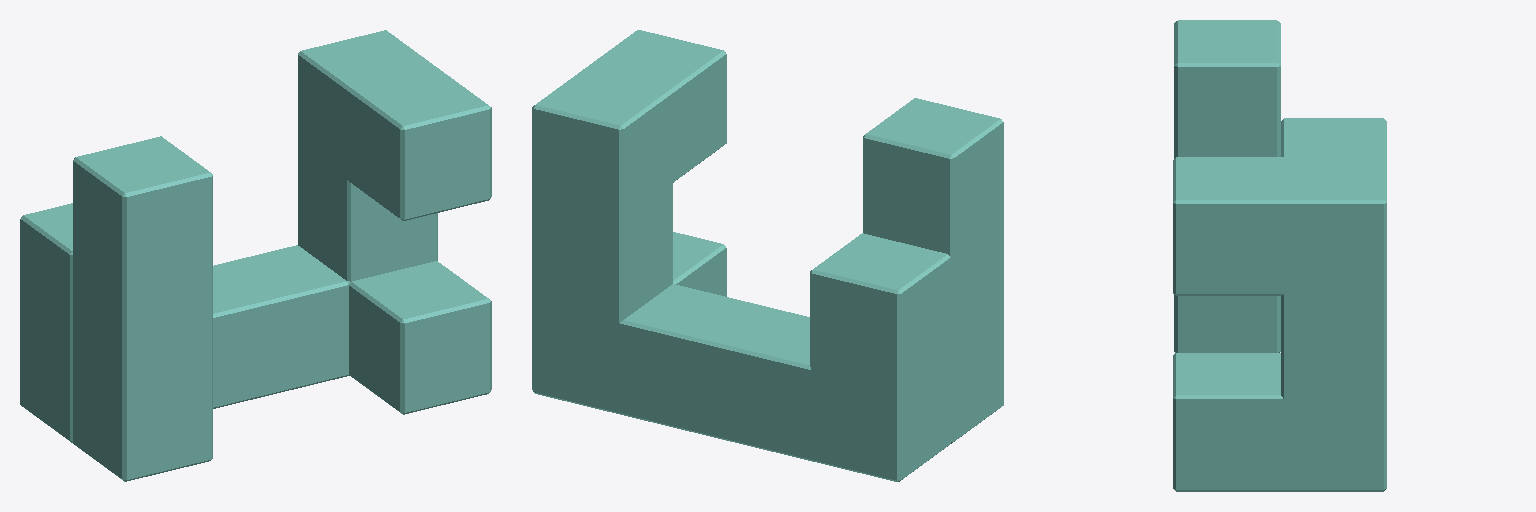
--- What the picture shows (computed from the rendered views, not written in the file) ---
3 views of the same robot in one strip: view 1: azimuth 30°, elevation 25°; view 2: azimuth 150°, elevation 25°; view 3: azimuth 270°, elevation 25° (orthographic).
Model obj_2 with 1 links and 0 joints (none), rooted at link_piece_2, posed all joints at 0.
Visible links, largest first — view 1: link_piece_2; view 2: link_piece_2; view 3: link_piece_2.
Link boxes in pixels (left/top/right/bottom): link_piece_2: left=20, top=30, right=491, bottom=481; link_piece_2: left=532, top=30, right=1003, bottom=481; link_piece_2: left=1173, top=20, right=1386, bottom=491.
Bounding box of the posed robot: 0.6401 × 0.3187 × 0.4793 m (x, y, z).
1 mesh visuals loaded from 1 distinct referenced files (1 OBJ).

URDF robot description (obj_2):
<robot name="obj_2" version="1.0">
  <link name="link_piece_2">
    <collision name="piece_2-collision.001">
      <origin rpy="-1.57080 0.00000 -3.14159" xyz="-0.70898 0.34385 0.40237"/>
      <geometry>
        <mesh filename="../meshes/obj/piece_2-collision.001.obj" scale="2.67513 2.67513 2.67513"/>
      </geometry>
    </collision>
    <collision name="piece_2-collision.002">
      <origin rpy="3.14159 1.57080 0.00000" xyz="-0.78803 0.42290 0.40237"/>
      <geometry>
        <mesh filename="../meshes/obj/piece_2-collision.002.obj" scale="2.67513 2.67513 2.67513"/>
      </geometry>
    </collision>
    <collision name="piece_2-collision.003">
      <origin rpy="3.14159 1.57080 0.00000" xyz="-0.78779 0.58124 0.32212"/>
      <geometry>
        <mesh filename="../meshes/obj/piece_2-collision.003.obj" scale="2.67513 2.67513 2.67513"/>
      </geometry>
    </collision>
    <collision name="piece_2-collision.004">
      <origin rpy="0.00000 -0.00000 -1.57080" xyz="-0.70898 0.42290 0.64193"/>
      <geometry>
        <mesh filename="../meshes/obj/piece_2-collision.004.obj" scale="2.67513 2.67513 2.67513"/>
      </geometry>
    </collision>
    <collision name="piece_2-collision.005">
      <origin rpy="0.00000 -0.00000 -1.57080" xyz="-0.70874 0.58124 0.48142"/>
      <geometry>
        <mesh filename="../meshes/obj/piece_2-collision.005.obj" scale="2.67513 2.67513 2.67513"/>
      </geometry>
    </collision>
    <collision name="piece_2-collision.006">
      <origin rpy="-3.14159 -1.57080 0.00000" xyz="-0.62993 0.42290 0.40237"/>
      <geometry>
        <mesh filename="../meshes/obj/piece_2-collision.006.obj" scale="2.67513 2.67513 2.67513"/>
      </geometry>
    </collision>
    <collision name="piece_2-collision.007">
      <origin rpy="3.14159 -0.00000 -1.57080" xyz="-0.70898 0.42290 0.16281"/>
      <geometry>
        <mesh filename="../meshes/obj/piece_2-collision.007.obj" scale="2.67513 2.67513 2.67513"/>
      </geometry>
    </collision>
    <collision name="piece_2-collision.008">
      <origin rpy="-1.57080 0.00000 0.00000" xyz="-0.70874 0.66029 0.32212"/>
      <geometry>
        <mesh filename="../meshes/obj/piece_2-collision.008.obj" scale="2.67513 2.67513 2.67513"/>
      </geometry>
    </collision>
    <collision name="piece_2-collision.009">
      <origin rpy="-3.14159 -1.57080 0.00000" xyz="-0.62969 0.58124 0.39880"/>
      <geometry>
        <mesh filename="../meshes/obj/piece_2-collision.009.obj" scale="2.67513 2.67513 2.67513"/>
      </geometry>
    </collision>
    <collision name="piece_2-collision.010">
      <origin rpy="0.00000 -0.00000 -1.57080" xyz="-0.46798 0.58124 0.32091"/>
      <geometry>
        <mesh filename="../meshes/obj/piece_2-collision.010.obj" scale="2.67513 2.67513 2.67513"/>
      </geometry>
    </collision>
    <collision name="piece_2-collision.011">
      <origin rpy="-1.57080 0.00000 -3.14159" xyz="-0.47035 0.50219 0.24186"/>
      <geometry>
        <mesh filename="../meshes/obj/piece_2-collision.011.obj" scale="2.67513 2.67513 2.67513"/>
      </geometry>
    </collision>
    <collision name="piece_2-collision.012">
      <origin rpy="-1.57080 0.00000 -3.14159" xyz="-0.22722 0.34168 0.24186"/>
      <geometry>
        <mesh filename="../meshes/obj/piece_2-collision.012.obj" scale="2.67513 2.67513 2.67513"/>
      </geometry>
    </collision>
    <collision name="piece_2-collision.013">
      <origin rpy="3.14159 -0.00000 -1.57080" xyz="-0.22722 0.50098 0.16281"/>
      <geometry>
        <mesh filename="../meshes/obj/piece_2-collision.013.obj" scale="2.67513 2.67513 2.67513"/>
      </geometry>
    </collision>
    <collision name="piece_2-collision.014">
      <origin rpy="3.14159 -0.00000 -1.57080" xyz="-0.54230 0.58124 0.16281"/>
      <geometry>
        <mesh filename="../meshes/obj/piece_2-collision.014.obj" scale="2.67513 2.67513 2.67513"/>
      </geometry>
    </collision>
    <collision name="piece_2-collision.015">
      <origin rpy="-3.14159 -1.57080 0.00000" xyz="-0.14817 0.50098 0.24186"/>
      <geometry>
        <mesh filename="../meshes/obj/piece_2-collision.015.obj" scale="2.67513 2.67513 2.67513"/>
      </geometry>
    </collision>
    <collision name="piece_2-collision.016">
      <origin rpy="-3.14159 -1.57080 0.00000" xyz="-0.14817 0.58124 0.47669"/>
      <geometry>
        <mesh filename="../meshes/obj/piece_2-collision.016.obj" scale="2.67513 2.67513 2.67513"/>
      </geometry>
    </collision>
    <collision name="piece_2-collision.017">
      <origin rpy="-3.14159 -1.57080 0.00000" xyz="-0.14817 0.42666 0.56288"/>
      <geometry>
        <mesh filename="../meshes/obj/piece_2-collision.017.obj" scale="2.67513 2.67513 2.67513"/>
      </geometry>
    </collision>
    <collision name="piece_2-collision.018">
      <origin rpy="-1.57080 0.00000 0.00000" xyz="-0.39366 0.66029 0.24186"/>
      <geometry>
        <mesh filename="../meshes/obj/piece_2-collision.018.obj" scale="2.67513 2.67513 2.67513"/>
      </geometry>
    </collision>
    <collision name="piece_2-collision.019">
      <origin rpy="-1.57080 0.00000 0.00000" xyz="-0.22699 0.66029 0.47669"/>
      <geometry>
        <mesh filename="../meshes/obj/piece_2-collision.019.obj" scale="2.67513 2.67513 2.67513"/>
      </geometry>
    </collision>
    <collision name="piece_2-collision.020">
      <origin rpy="-1.57080 0.00000 -3.14159" xyz="-0.22722 0.50219 0.40237"/>
      <geometry>
        <mesh filename="../meshes/obj/piece_2-collision.020.obj" scale="2.67513 2.67513 2.67513"/>
      </geometry>
    </collision>
    <collision name="piece_2-collision.021">
      <origin rpy="3.14159 -0.00000 -1.57080" xyz="-0.22722 0.42430 0.48383"/>
      <geometry>
        <mesh filename="../meshes/obj/piece_2-collision.021.obj" scale="2.67513 2.67513 2.67513"/>
      </geometry>
    </collision>
    <collision name="piece_2-collision.022">
      <origin rpy="-1.57080 0.00000 -3.14159" xyz="-0.22722 0.34168 0.56288"/>
      <geometry>
        <mesh filename="../meshes/obj/piece_2-collision.022.obj" scale="2.67513 2.67513 2.67513"/>
      </geometry>
    </collision>
    <collision name="piece_2-collision.023">
      <origin rpy="3.14159 1.57080 0.00000" xyz="-0.30627 0.58124 0.47906"/>
      <geometry>
        <mesh filename="../meshes/obj/piece_2-collision.023.obj" scale="2.67513 2.67513 2.67513"/>
      </geometry>
    </collision>
    <collision name="piece_2-collision.024">
      <origin rpy="3.14159 1.57080 0.00000" xyz="-0.30627 0.42666 0.56288"/>
      <geometry>
        <mesh filename="../meshes/obj/piece_2-collision.024.obj" scale="2.67513 2.67513 2.67513"/>
      </geometry>
    </collision>
    <collision name="piece_2-collision.025">
      <origin rpy="0.00000 -0.00000 -1.57080" xyz="-0.22722 0.50098 0.64193"/>
      <geometry>
        <mesh filename="../meshes/obj/piece_2-collision.025.obj" scale="2.67513 2.67513 2.67513"/>
      </geometry>
    </collision>
    <collision name="piece_2-collision.026">
      <origin rpy="0.00000 -0.00000 -1.57080" xyz="-0.22722 0.42430 0.32091"/>
      <geometry>
        <mesh filename="../meshes/obj/piece_2-collision.026.obj" scale="2.67513 2.67513 2.67513"/>
      </geometry>
    </collision>
    <collision name="piece_2-collision.027">
      <origin rpy="3.14159 1.57080 0.00000" xyz="-0.30627 0.42430 0.24186"/>
      <geometry>
        <mesh filename="../meshes/obj/piece_2-collision.027.obj" scale="2.67513 2.67513 2.67513"/>
      </geometry>
    </collision>
    <collision name="piece_2-collision.028">
      <origin rpy="-2.35613 -0.00000 -3.14159" xyz="-0.70898 0.34621 0.16518"/>
      <geometry>
        <mesh filename="../meshes/obj/piece_2-collision.028.obj" scale="2.67513 2.67513 2.67513"/>
      </geometry>
    </collision>
    <collision name="piece_2-collision.029">
      <origin rpy="3.14159 0.78540 -0.00000" xyz="-0.78566 0.42290 0.16518"/>
      <geometry>
        <mesh filename="../meshes/obj/piece_2-collision.029.obj" scale="2.67513 2.67513 2.67513"/>
      </geometry>
    </collision>
    <collision name="piece_2-collision.030">
      <origin rpy="3.14159 -0.78540 0.00000" xyz="-0.63229 0.42290 0.16518"/>
      <geometry>
        <mesh filename="../meshes/obj/piece_2-collision.030.obj" scale="2.67513 2.67513 2.67513"/>
      </geometry>
    </collision>
    <collision name="piece_2-collision.031">
      <origin rpy="3.14159 0.78540 0.00000" xyz="-0.78543 0.58124 0.16518"/>
      <geometry>
        <mesh filename="../meshes/obj/piece_2-collision.031.obj" scale="2.67513 2.67513 2.67513"/>
      </geometry>
    </collision>
    <collision name="piece_2-collision.032">
      <origin rpy="-2.35613 0.00000 0.00000" xyz="-0.46798 0.65792 0.16518"/>
      <geometry>
        <mesh filename="../meshes/obj/piece_2-collision.032.obj" scale="2.67513 2.67513 2.67513"/>
      </geometry>
    </collision>
    <collision name="piece_2-collision.033">
      <origin rpy="3.14159 -0.78546 0.00000" xyz="-0.15053 0.50098 0.16518"/>
      <geometry>
        <mesh filename="../meshes/obj/piece_2-collision.033.obj" scale="2.67513 2.67513 2.67513"/>
      </geometry>
    </collision>
    <collision name="piece_2-collision.034">
      <origin rpy="-3.14159 -0.78540 -1.57080" xyz="-0.22722 0.34404 0.16518"/>
      <geometry>
        <mesh filename="../meshes/obj/piece_2-collision.034.obj" scale="2.67513 2.67513 2.67513"/>
      </geometry>
    </collision>
    <collision name="piece_2-collision.035">
      <origin rpy="2.35619 1.57080 0.00000" xyz="-0.30390 0.34404 0.24186"/>
      <geometry>
        <mesh filename="../meshes/obj/piece_2-collision.035.obj" scale="2.67513 2.67513 2.67513"/>
      </geometry>
    </collision>
    <collision name="piece_2-collision.036">
      <origin rpy="2.35626 -1.57080 0.00000" xyz="-0.15053 0.34404 0.24186"/>
      <geometry>
        <mesh filename="../meshes/obj/piece_2-collision.036.obj" scale="2.67513 2.67513 2.67513"/>
      </geometry>
    </collision>
    <collision name="piece_2-collision.037">
      <origin rpy="0.78540 -0.00000 0.00000" xyz="-0.22722 0.34404 0.31855"/>
      <geometry>
        <mesh filename="../meshes/obj/piece_2-collision.037.obj" scale="2.67513 2.67513 2.67513"/>
      </geometry>
    </collision>
    <collision name="piece_2-collision.038">
      <origin rpy="0.00000 0.78540 -3.14159" xyz="-0.30390 0.42430 0.31855"/>
      <geometry>
        <mesh filename="../meshes/obj/piece_2-collision.038.obj" scale="2.67513 2.67513 2.67513"/>
      </geometry>
    </collision>
    <collision name="piece_2-collision.039">
      <origin rpy="-3.14159 -0.78540 -1.57080" xyz="-0.22722 0.34404 0.48620"/>
      <geometry>
        <mesh filename="../meshes/obj/piece_2-collision.039.obj" scale="2.67513 2.67513 2.67513"/>
      </geometry>
    </collision>
    <collision name="piece_2-collision.040">
      <origin rpy="0.00000 -0.78540 -3.14159" xyz="-0.15053 0.50098 0.63957"/>
      <geometry>
        <mesh filename="../meshes/obj/piece_2-collision.040.obj" scale="2.67513 2.67513 2.67513"/>
      </geometry>
    </collision>
    <collision name="piece_2-collision.041">
      <origin rpy="-0.00000 -0.78540 -1.57080" xyz="-0.22699 0.65792 0.63957"/>
      <geometry>
        <mesh filename="../meshes/obj/piece_2-collision.041.obj" scale="2.67513 2.67513 2.67513"/>
      </geometry>
    </collision>
    <collision name="piece_2-collision.042">
      <origin rpy="0.78533 -0.00000 -1.57080" xyz="-0.30390 0.50098 0.63957"/>
      <geometry>
        <mesh filename="../meshes/obj/piece_2-collision.042.obj" scale="2.67513 2.67513 2.67513"/>
      </geometry>
    </collision>
    <collision name="piece_2-collision.043">
      <origin rpy="0.78540 -0.00000 0.00000" xyz="-0.70898 0.34621 0.63957"/>
      <geometry>
        <mesh filename="../meshes/obj/piece_2-collision.043.obj" scale="2.67513 2.67513 2.67513"/>
      </geometry>
    </collision>
    <collision name="piece_2-collision.044">
      <origin rpy="-0.78533 0.00000 -1.57080" xyz="-0.63229 0.42290 0.63957"/>
      <geometry>
        <mesh filename="../meshes/obj/piece_2-collision.044.obj" scale="2.67513 2.67513 2.67513"/>
      </geometry>
    </collision>
    <collision name="piece_2-collision.045">
      <origin rpy="-0.00000 -0.78533 -1.57080" xyz="-0.70898 0.49959 0.63957"/>
      <geometry>
        <mesh filename="../meshes/obj/piece_2-collision.045.obj" scale="2.67513 2.67513 2.67513"/>
      </geometry>
    </collision>
    <collision name="piece_2-collision.046">
      <origin rpy="0.78533 -0.00000 -1.57080" xyz="-0.78566 0.42290 0.63957"/>
      <geometry>
        <mesh filename="../meshes/obj/piece_2-collision.046.obj" scale="2.67513 2.67513 2.67513"/>
      </geometry>
    </collision>
    <collision name="piece_2-collision.047">
      <origin rpy="-1.57080 0.00000 0.78540" xyz="-0.78566 0.49959 0.40237"/>
      <geometry>
        <mesh filename="../meshes/obj/piece_2-collision.047.obj" scale="2.67513 2.67513 2.67513"/>
      </geometry>
    </collision>
    <collision name="piece_2-collision.048">
      <origin rpy="-1.57080 0.00000 2.35626" xyz="-0.78566 0.34621 0.40237"/>
      <geometry>
        <mesh filename="../meshes/obj/piece_2-collision.048.obj" scale="2.67513 2.67513 2.67513"/>
      </geometry>
    </collision>
    <collision name="piece_2-collision.049">
      <origin rpy="1.57080 0.00000 0.78533" xyz="-0.63229 0.34621 0.40237"/>
      <geometry>
        <mesh filename="../meshes/obj/piece_2-collision.049.obj" scale="2.67513 2.67513 2.67513"/>
      </geometry>
    </collision>
    <collision name="piece_2-collision.050">
      <origin rpy="-2.35619 -1.57080 0.00000" xyz="-0.63229 0.49959 0.40237"/>
      <geometry>
        <mesh filename="../meshes/obj/piece_2-collision.050.obj" scale="2.67513 2.67513 2.67513"/>
      </geometry>
    </collision>
    <collision name="piece_2-collision.051">
      <origin rpy="2.35619 1.57080 0.00000" xyz="-0.78543 0.50455 0.32212"/>
      <geometry>
        <mesh filename="../meshes/obj/piece_2-collision.051.obj" scale="2.67513 2.67513 2.67513"/>
      </geometry>
    </collision>
    <collision name="piece_2-collision.052">
      <origin rpy="0.00000 0.78540 -3.14159" xyz="-0.78543 0.58124 0.47906"/>
      <geometry>
        <mesh filename="../meshes/obj/piece_2-collision.052.obj" scale="2.67513 2.67513 2.67513"/>
      </geometry>
    </collision>
    <collision name="piece_2-collision.053">
      <origin rpy="-0.78546 -0.00000 0.00000" xyz="-0.70874 0.65792 0.47906"/>
      <geometry>
        <mesh filename="../meshes/obj/piece_2-collision.053.obj" scale="2.67513 2.67513 2.67513"/>
      </geometry>
    </collision>
    <collision name="piece_2-collision.054">
      <origin rpy="0.00000 -0.78540 -3.14159" xyz="-0.63206 0.58124 0.47906"/>
      <geometry>
        <mesh filename="../meshes/obj/piece_2-collision.054.obj" scale="2.67513 2.67513 2.67513"/>
      </geometry>
    </collision>
    <collision name="piece_2-collision.055">
      <origin rpy="-2.35619 -1.57080 0.00000" xyz="-0.15053 0.65792 0.40237"/>
      <geometry>
        <mesh filename="../meshes/obj/piece_2-collision.055.obj" scale="2.67513 2.67513 2.67513"/>
      </geometry>
    </collision>
    <collision name="piece_2-collision.056">
      <origin rpy="-1.57080 0.00000 -3.14159" xyz="-0.69075 0.49199 0.34997"/>
      <geometry>
        <mesh filename="../meshes/obj/piece_2-collision.056.obj" scale="0.01338 0.01338 0.01338"/>
      </geometry>
    </collision>
    <collision name="piece_2-collision.057">
      <origin rpy="-1.57080 0.00000 -3.14159" xyz="-0.69075 0.49199 0.34997"/>
      <geometry>
        <mesh filename="../meshes/obj/piece_2-collision.057.obj" scale="0.01338 0.01338 0.01338"/>
      </geometry>
    </collision>
    <collision name="piece_2-collision.058">
      <origin rpy="-1.57080 0.00000 -3.14159" xyz="-0.69075 0.49199 0.34997"/>
      <geometry>
        <mesh filename="../meshes/obj/piece_2-collision.058.obj" scale="0.01338 0.01338 0.01338"/>
      </geometry>
    </collision>
    <collision name="piece_2-collision.059">
      <origin rpy="-1.57080 0.00000 -3.14159" xyz="-0.69075 0.49199 0.34997"/>
      <geometry>
        <mesh filename="../meshes/obj/piece_2-collision.059.obj" scale="0.01338 0.01338 0.01338"/>
      </geometry>
    </collision>
    <collision name="piece_2-collision.060">
      <origin rpy="-1.57080 0.00000 -3.14159" xyz="-0.69075 0.49199 0.34997"/>
      <geometry>
        <mesh filename="../meshes/obj/piece_2-collision.060.obj" scale="0.01338 0.01338 0.01338"/>
      </geometry>
    </collision>
    <collision name="piece_2-collision.061">
      <origin rpy="-1.57080 0.00000 -3.14159" xyz="-0.69075 0.49199 0.34997"/>
      <geometry>
        <mesh filename="../meshes/obj/piece_2-collision.061.obj" scale="0.01338 0.01338 0.01338"/>
      </geometry>
    </collision>
    <collision name="piece_2-collision.062">
      <origin rpy="-1.57080 0.00000 -3.14159" xyz="-0.69075 0.49199 0.34997"/>
      <geometry>
        <mesh filename="../meshes/obj/piece_2-collision.062.obj" scale="0.01338 0.01338 0.01338"/>
      </geometry>
    </collision>
    <collision name="piece_2-collision.063">
      <origin rpy="-1.57080 0.00000 -3.14159" xyz="-0.69075 0.49199 0.34997"/>
      <geometry>
        <mesh filename="../meshes/obj/piece_2-collision.063.obj" scale="0.01338 0.01338 0.01338"/>
      </geometry>
    </collision>
    <collision name="piece_2-collision.064">
      <origin rpy="-1.57080 0.00000 -3.14159" xyz="-0.69075 0.49199 0.34997"/>
      <geometry>
        <mesh filename="../meshes/obj/piece_2-collision.064.obj" scale="0.01338 0.01338 0.01338"/>
      </geometry>
    </collision>
    <collision name="piece_2-collision.065">
      <origin rpy="-1.57080 0.00000 -3.14159" xyz="-0.69075 0.49199 0.34997"/>
      <geometry>
        <mesh filename="../meshes/obj/piece_2-collision.065.obj" scale="0.01338 0.01338 0.01338"/>
      </geometry>
    </collision>
    <collision name="piece_2-collision.066">
      <origin rpy="-1.57080 0.00000 -3.14159" xyz="-0.69075 0.49199 0.34997"/>
      <geometry>
        <mesh filename="../meshes/obj/piece_2-collision.066.obj" scale="0.01338 0.01338 0.01338"/>
      </geometry>
    </collision>
    <collision name="piece_2-collision.067">
      <origin rpy="-1.57080 0.00000 -3.14159" xyz="-0.69075 0.49199 0.34997"/>
      <geometry>
        <mesh filename="../meshes/obj/piece_2-collision.067.obj" scale="0.01338 0.01338 0.01338"/>
      </geometry>
    </collision>
    <collision name="piece_2-collision.068">
      <origin rpy="-1.57080 0.00000 -3.14159" xyz="-0.69075 0.49199 0.34997"/>
      <geometry>
        <mesh filename="../meshes/obj/piece_2-collision.068.obj" scale="0.01338 0.01338 0.01338"/>
      </geometry>
    </collision>
    <collision name="piece_2-collision.069">
      <origin rpy="-1.57080 0.00000 -3.14159" xyz="-0.69075 0.49199 0.34997"/>
      <geometry>
        <mesh filename="../meshes/obj/piece_2-collision.069.obj" scale="0.01338 0.01338 0.01338"/>
      </geometry>
    </collision>
    <collision name="piece_2-collision.070">
      <origin rpy="-1.57080 0.00000 -3.14159" xyz="-0.69075 0.49199 0.34997"/>
      <geometry>
        <mesh filename="../meshes/obj/piece_2-collision.070.obj" scale="0.01338 0.01338 0.01338"/>
      </geometry>
    </collision>
    <collision name="piece_2-collision.071">
      <origin rpy="-1.57080 0.00000 -3.14159" xyz="-0.69075 0.49199 0.34997"/>
      <geometry>
        <mesh filename="../meshes/obj/piece_2-collision.071.obj" scale="0.01338 0.01338 0.01338"/>
      </geometry>
    </collision>
    <collision name="piece_2-collision.072">
      <origin rpy="-1.57080 0.00000 -3.14159" xyz="-0.69075 0.49199 0.34997"/>
      <geometry>
        <mesh filename="../meshes/obj/piece_2-collision.072.obj" scale="0.01338 0.01338 0.01338"/>
      </geometry>
    </collision>
    <collision name="piece_2-collision.073">
      <origin rpy="-1.57080 0.00000 -3.14159" xyz="-0.69075 0.49199 0.34997"/>
      <geometry>
        <mesh filename="../meshes/obj/piece_2-collision.073.obj" scale="0.01338 0.01338 0.01338"/>
      </geometry>
    </collision>
    <collision name="piece_2-collision.074">
      <origin rpy="-1.57080 0.00000 -3.14159" xyz="-0.69075 0.49199 0.34997"/>
      <geometry>
        <mesh filename="../meshes/obj/piece_2-collision.074.obj" scale="0.01338 0.01338 0.01338"/>
      </geometry>
    </collision>
    <collision name="piece_2-collision.075">
      <origin rpy="-1.57080 0.00000 -3.14159" xyz="-0.69075 0.49199 0.34997"/>
      <geometry>
        <mesh filename="../meshes/obj/piece_2-collision.075.obj" scale="0.01338 0.01338 0.01338"/>
      </geometry>
    </collision>
    <collision name="piece_2-collision.076">
      <origin rpy="-1.57080 0.00000 -3.14159" xyz="-0.69075 0.49199 0.34997"/>
      <geometry>
        <mesh filename="../meshes/obj/piece_2-collision.076.obj" scale="0.01338 0.01338 0.01338"/>
      </geometry>
    </collision>
    <collision name="piece_2-collision.077">
      <origin rpy="-1.57080 0.00000 -3.14159" xyz="-0.69075 0.49199 0.34997"/>
      <geometry>
        <mesh filename="../meshes/obj/piece_2-collision.077.obj" scale="0.01338 0.01338 0.01338"/>
      </geometry>
    </collision>
    <collision name="piece_2-collision.078">
      <origin rpy="-1.57080 0.00000 -3.14159" xyz="-0.69075 0.49199 0.34997"/>
      <geometry>
        <mesh filename="../meshes/obj/piece_2-collision.078.obj" scale="0.01338 0.01338 0.01338"/>
      </geometry>
    </collision>
    <collision name="piece_2-collision.079">
      <origin rpy="-1.57080 0.00000 -3.14159" xyz="-0.69075 0.49199 0.34997"/>
      <geometry>
        <mesh filename="../meshes/obj/piece_2-collision.079.obj" scale="0.01338 0.01338 0.01338"/>
      </geometry>
    </collision>
    <collision name="piece_2-collision.080">
      <origin rpy="-1.57080 0.00000 -3.14159" xyz="-0.69075 0.49199 0.34997"/>
      <geometry>
        <mesh filename="../meshes/obj/piece_2-collision.080.obj" scale="0.01338 0.01338 0.01338"/>
      </geometry>
    </collision>
    <collision name="piece_2-collision.081">
      <origin rpy="-1.57080 0.00000 -3.14159" xyz="-0.69075 0.49199 0.34997"/>
      <geometry>
        <mesh filename="../meshes/obj/piece_2-collision.081.obj" scale="0.01338 0.01338 0.01338"/>
      </geometry>
    </collision>
    <collision name="piece_2-collision.082">
      <origin rpy="-1.57080 0.00000 -3.14159" xyz="-0.69075 0.49199 0.34997"/>
      <geometry>
        <mesh filename="../meshes/obj/piece_2-collision.082.obj" scale="0.01338 0.01338 0.01338"/>
      </geometry>
    </collision>
    <collision name="piece_2-collision.083">
      <origin rpy="-1.57080 0.00000 -3.14159" xyz="-0.69075 0.49199 0.34997"/>
      <geometry>
        <mesh filename="../meshes/obj/piece_2-collision.083.obj" scale="0.01338 0.01338 0.01338"/>
      </geometry>
    </collision>
    <collision name="piece_2-collision.084">
      <origin rpy="-1.57080 0.00000 -3.14159" xyz="-0.69075 0.49199 0.34997"/>
      <geometry>
        <mesh filename="../meshes/obj/piece_2-collision.084.obj" scale="0.01338 0.01338 0.01338"/>
      </geometry>
    </collision>
    <collision name="piece_2-collision.085">
      <origin rpy="-1.57080 0.00000 -3.14159" xyz="-0.69075 0.49199 0.34997"/>
      <geometry>
        <mesh filename="../meshes/obj/piece_2-collision.085.obj" scale="0.01338 0.01338 0.01338"/>
      </geometry>
    </collision>
    <collision name="piece_2-collision.086">
      <origin rpy="-1.57080 0.00000 -3.14159" xyz="-0.69075 0.49199 0.34997"/>
      <geometry>
        <mesh filename="../meshes/obj/piece_2-collision.086.obj" scale="0.01338 0.01338 0.01338"/>
      </geometry>
    </collision>
    <collision name="piece_2-collision.087">
      <origin rpy="-1.57080 0.00000 -3.14159" xyz="-0.69075 0.49199 0.34997"/>
      <geometry>
        <mesh filename="../meshes/obj/piece_2-collision.087.obj" scale="0.01338 0.01338 0.01338"/>
      </geometry>
    </collision>
    <collision name="piece_2-collision.088">
      <origin rpy="-1.57080 0.00000 -3.14159" xyz="-0.69075 0.49199 0.34997"/>
      <geometry>
        <mesh filename="../meshes/obj/piece_2-collision.088.obj" scale="0.01338 0.01338 0.01338"/>
      </geometry>
    </collision>
    <collision name="piece_2-collision.089">
      <origin rpy="-1.57080 0.00000 -3.14159" xyz="-0.69075 0.49199 0.34997"/>
      <geometry>
        <mesh filename="../meshes/obj/piece_2-collision.089.obj" scale="0.01338 0.01338 0.01338"/>
      </geometry>
    </collision>
    <collision name="piece_2-collision.090">
      <origin rpy="-1.57080 0.00000 -3.14159" xyz="-0.69075 0.49199 0.34997"/>
      <geometry>
        <mesh filename="../meshes/obj/piece_2-collision.090.obj" scale="0.01338 0.01338 0.01338"/>
      </geometry>
    </collision>
    <collision name="piece_2-collision.091">
      <origin rpy="-1.57080 0.00000 -3.14159" xyz="-0.69075 0.49199 0.34997"/>
      <geometry>
        <mesh filename="../meshes/obj/piece_2-collision.091.obj" scale="0.01338 0.01338 0.01338"/>
      </geometry>
    </collision>
    <collision name="piece_2-collision.092">
      <origin rpy="-1.57080 0.00000 -3.14159" xyz="-0.69075 0.49199 0.34997"/>
      <geometry>
        <mesh filename="../meshes/obj/piece_2-collision.092.obj" scale="0.01338 0.01338 0.01338"/>
      </geometry>
    </collision>
    <collision name="piece_2-collision.093">
      <origin rpy="-1.57080 0.00000 -3.14159" xyz="-0.69075 0.49199 0.34997"/>
      <geometry>
        <mesh filename="../meshes/obj/piece_2-collision.093.obj" scale="0.01338 0.01338 0.01338"/>
      </geometry>
    </collision>
    <collision name="piece_2-collision.094">
      <origin rpy="-1.57080 0.00000 -3.14159" xyz="-0.69075 0.49199 0.34997"/>
      <geometry>
        <mesh filename="../meshes/obj/piece_2-collision.094.obj" scale="0.01338 0.01338 0.01338"/>
      </geometry>
    </collision>
    <collision name="piece_2-collision.095">
      <origin rpy="-1.57080 0.00000 -3.14159" xyz="-0.69075 0.49199 0.34997"/>
      <geometry>
        <mesh filename="../meshes/obj/piece_2-collision.095.obj" scale="0.01338 0.01338 0.01338"/>
      </geometry>
    </collision>
    <collision name="piece_2-collision.096">
      <origin rpy="-1.57080 0.00000 -3.14159" xyz="-0.69075 0.49199 0.34997"/>
      <geometry>
        <mesh filename="../meshes/obj/piece_2-collision.096.obj" scale="0.01338 0.01338 0.01338"/>
      </geometry>
    </collision>
    <collision name="piece_2-collision.097">
      <origin rpy="-1.57080 0.00000 -3.14159" xyz="-0.69075 0.49199 0.34997"/>
      <geometry>
        <mesh filename="../meshes/obj/piece_2-collision.097.obj" scale="0.01338 0.01338 0.01338"/>
      </geometry>
    </collision>
    <collision name="piece_2-collision.098">
      <origin rpy="-1.57080 0.00000 -3.14159" xyz="-0.69075 0.49199 0.34997"/>
      <geometry>
        <mesh filename="../meshes/obj/piece_2-collision.098.obj" scale="0.01338 0.01338 0.01338"/>
      </geometry>
    </collision>
    <inertial>
      <inertia ixx="0.00360" ixy="-0.00115" ixz="-0.00129" iyy="0.01637" iyz="0.00010" izz="0.01495"/>
      <origin rpy="0.00000 0.00000 0.00000" xyz="-0.46598 0.51549 0.36217"/>
      <mass value="0.15000"/>
    </inertial>
    <visual name="piece_2">
      <material name="turnarrow"/>
      <origin rpy="-1.57080 0.00000 -3.14159" xyz="-0.69075 0.49199 0.34997"/>
      <geometry>
        <mesh filename="../meshes/obj/002.obj" scale="0.01338 0.01338 0.01338"/>
      </geometry>
    </visual>
  </link>
  <material name="turnarrow">
    <color rgba="0.53725 0.80000 0.76078 1.00000"/>
  </material>
</robot>
